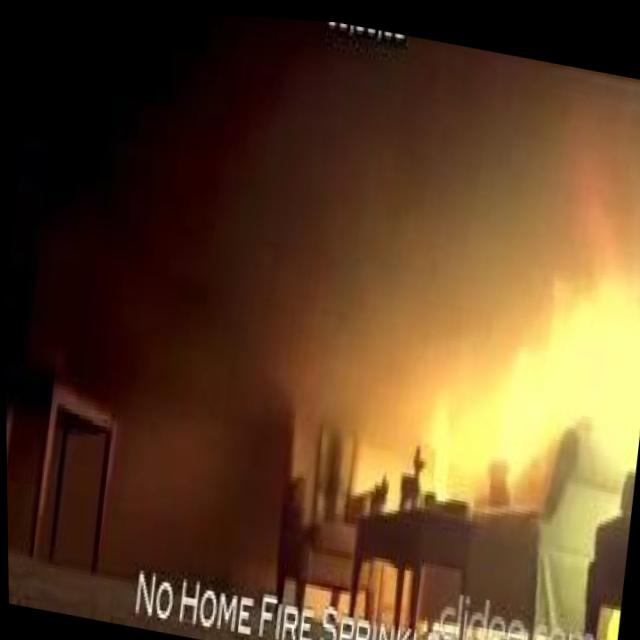fire: (347, 193, 640, 531)
